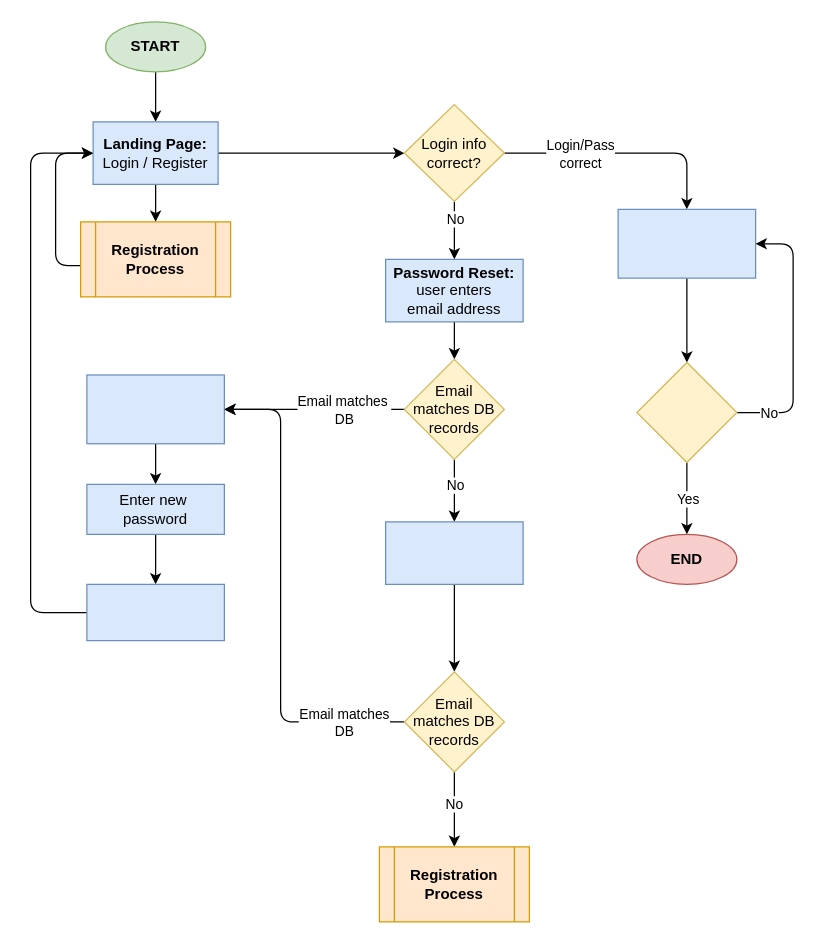
Some shapes in this 825 by 944 pixel diagram are drawn without their labels. Here are the shapes that lost their labels. From the top down, the centre of each, then its label:
At (686,243): "View: profile page".
At (155,409): "Reset Email Sent: user clicks link to reset".
At (686,411): "Logout?".
At (453,552): "Re-enter email address".
At (155,612): "Confirmation".
